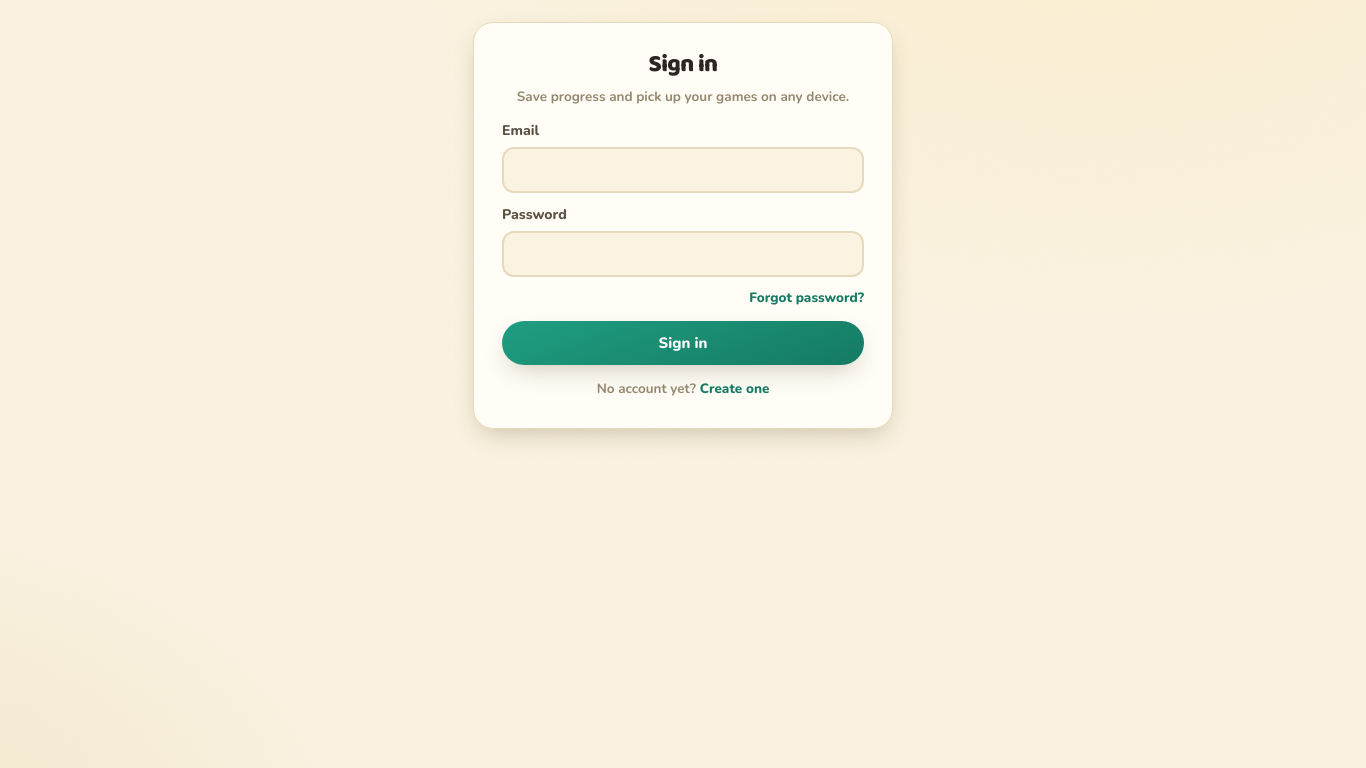
Test case: AuthScreen › shows error on invalid credentials
This screenshot has width=1366, height=768.
Expected: the heading "Sign in" is shown, x1=648 y1=45 x2=717 y2=84
Type "a@example.com" into the field labelled "Email".
click(683, 170); type("a@example.com")  # box x1=502 y1=147 x2=864 y2=193
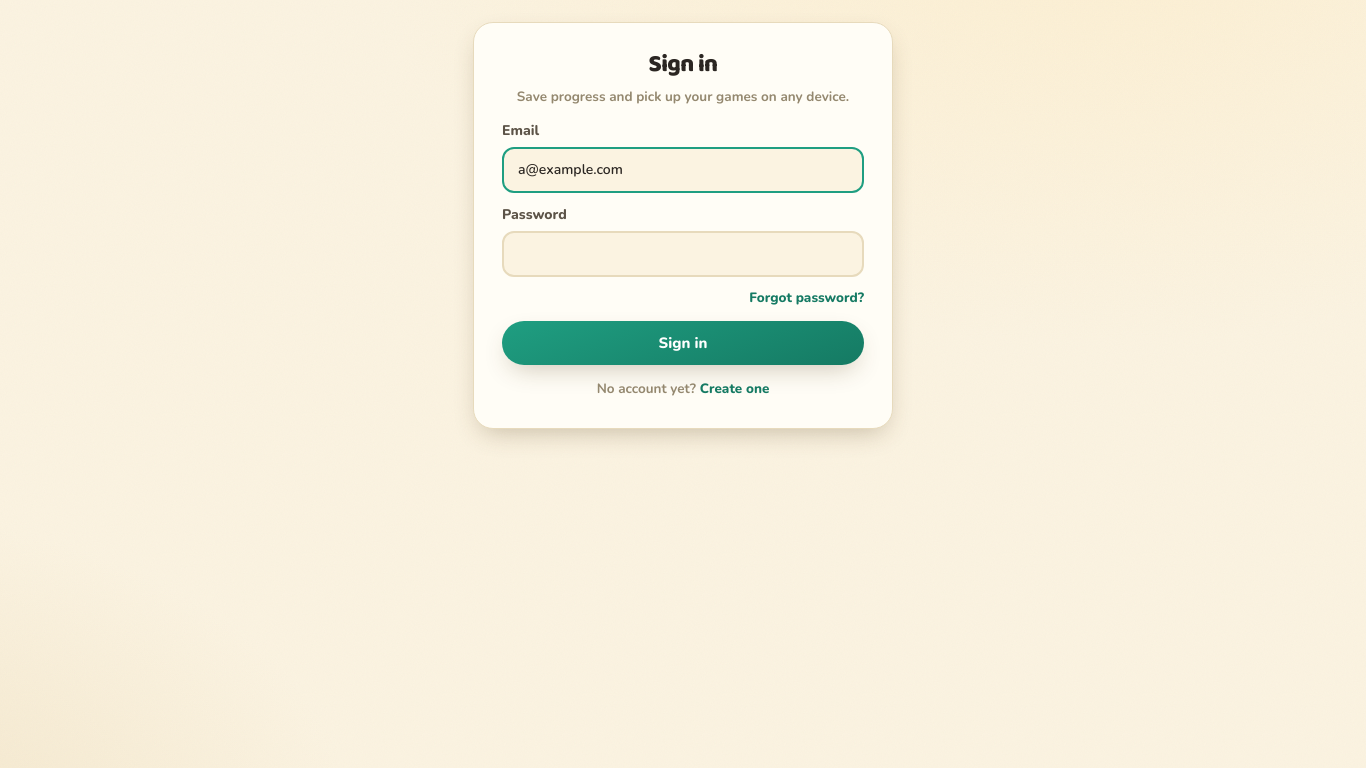
Type "wrong" into the password field labelled "Password".
click(683, 254); type("wrong")  # box x1=502 y1=231 x2=864 y2=277
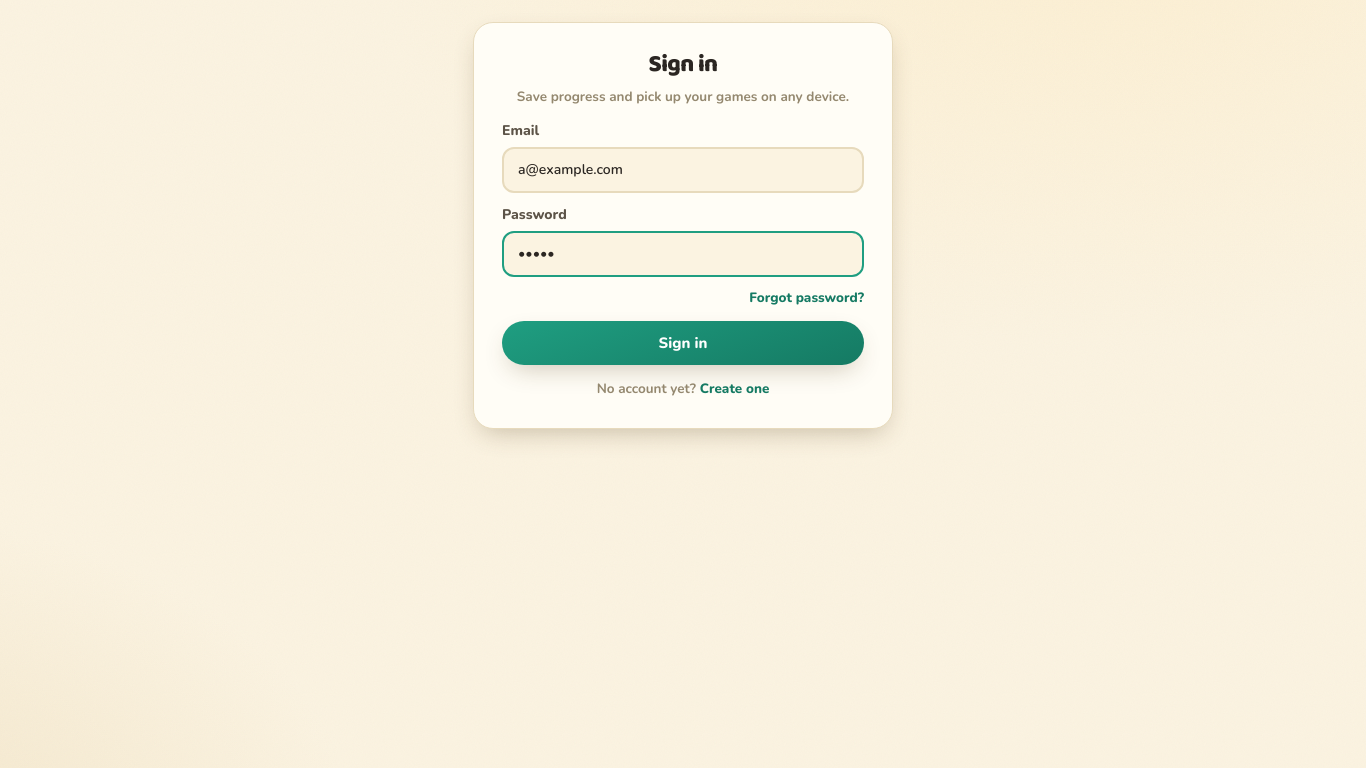
Click the button "Sign in".
click(683, 343)  # box x1=502 y1=321 x2=864 y2=365
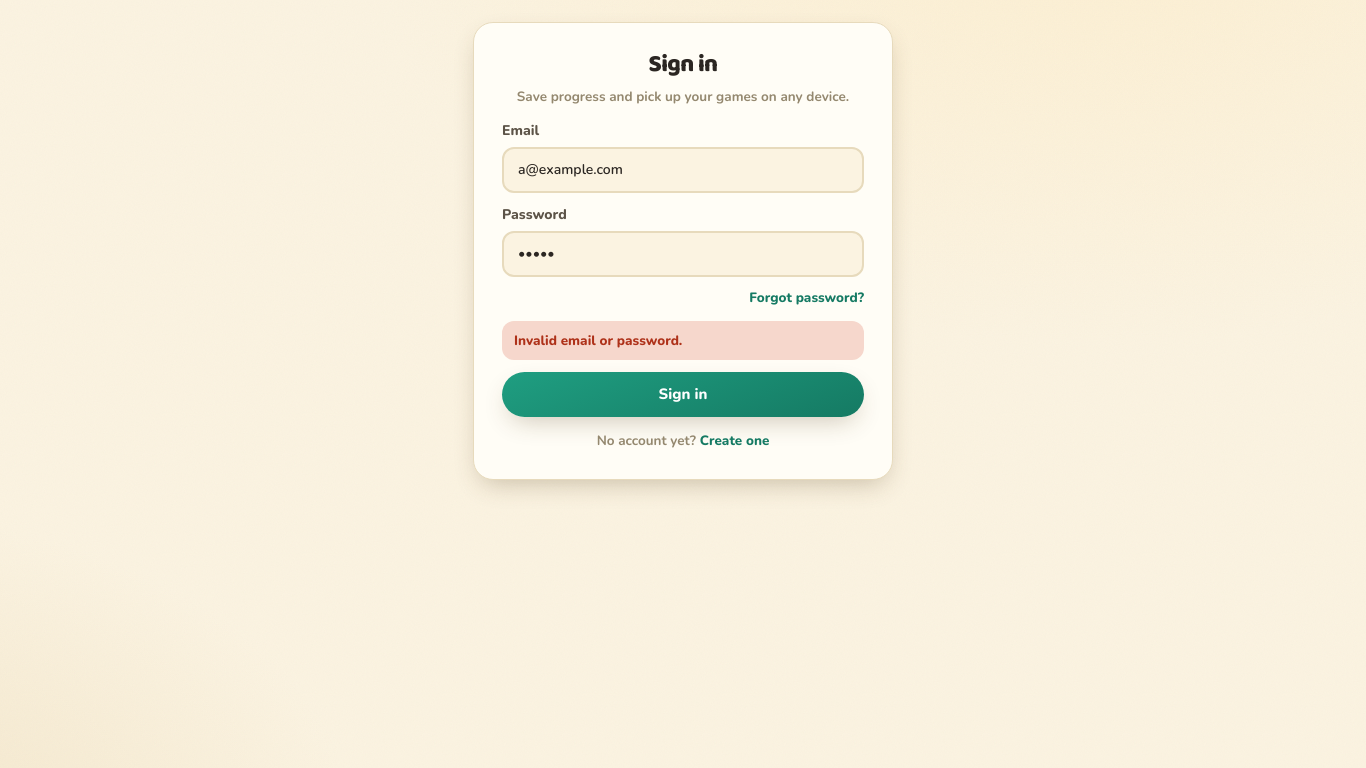
Result: the message reads "Invalid email or password." at x1=514 y1=331 x2=682 y2=350
